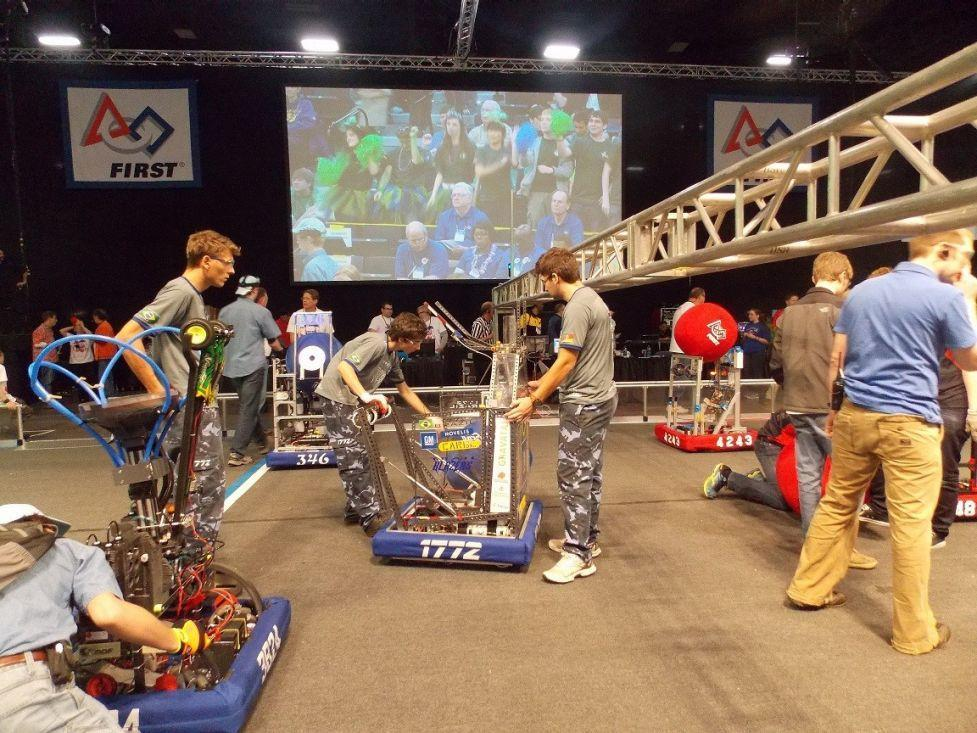robot: (7, 316, 298, 733), (347, 299, 553, 579), (261, 309, 371, 479), (653, 337, 768, 461), (912, 389, 977, 526)
